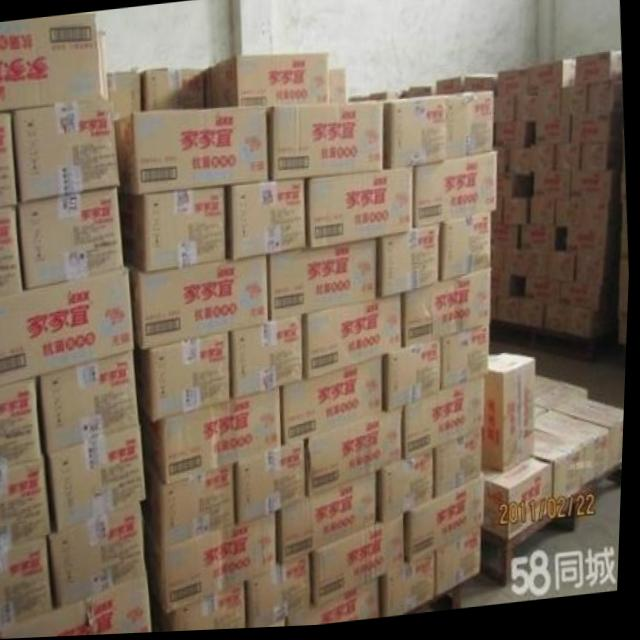box: (0, 268, 135, 388), (113, 108, 270, 196), (131, 258, 270, 350), (150, 516, 279, 615), (155, 389, 284, 488), (17, 183, 124, 290), (13, 100, 119, 202), (0, 11, 106, 110), (51, 425, 149, 532), (42, 350, 141, 455), (54, 505, 151, 610), (280, 473, 379, 574), (267, 104, 386, 184), (4, 576, 154, 639), (118, 190, 230, 274), (312, 516, 410, 611), (269, 241, 380, 324), (282, 360, 387, 447), (306, 168, 414, 252), (303, 295, 406, 382), (383, 96, 495, 172), (310, 413, 406, 501), (143, 335, 234, 423), (150, 461, 241, 547), (404, 270, 493, 353), (408, 477, 488, 569), (211, 55, 331, 110), (484, 356, 538, 478), (406, 382, 488, 462), (227, 182, 308, 262), (414, 155, 498, 232), (231, 317, 306, 401), (239, 439, 312, 525), (538, 414, 614, 491), (486, 460, 556, 542), (0, 537, 56, 632), (0, 459, 55, 554), (555, 403, 627, 472), (386, 342, 448, 416), (379, 452, 438, 528), (163, 582, 249, 634), (0, 377, 47, 471), (253, 559, 315, 630), (379, 228, 441, 299), (293, 584, 383, 629), (538, 434, 585, 516), (382, 556, 440, 621), (441, 217, 494, 286), (436, 433, 487, 503), (444, 328, 491, 396), (438, 532, 484, 600), (140, 70, 205, 111), (0, 202, 26, 297), (538, 378, 591, 422), (528, 60, 577, 98), (500, 300, 550, 334), (547, 307, 595, 342), (107, 72, 141, 121), (0, 109, 17, 205), (575, 55, 623, 89), (558, 203, 610, 234), (515, 94, 563, 127), (587, 79, 624, 119), (511, 151, 557, 180), (568, 233, 610, 263), (573, 116, 611, 149), (561, 287, 602, 317), (512, 254, 550, 285), (534, 177, 573, 207), (571, 178, 611, 206), (536, 124, 573, 151), (496, 70, 528, 101), (523, 229, 558, 257), (528, 282, 564, 309), (495, 127, 527, 156), (561, 90, 588, 123), (582, 148, 610, 179), (549, 257, 577, 287), (576, 260, 604, 289), (557, 148, 583, 179), (532, 201, 560, 229), (328, 71, 349, 106), (492, 228, 520, 254), (505, 202, 531, 229), (493, 250, 514, 280), (465, 79, 497, 97), (622, 263, 631, 323), (493, 273, 512, 301), (438, 82, 465, 100), (491, 202, 507, 228), (498, 179, 513, 203), (622, 322, 630, 349)
